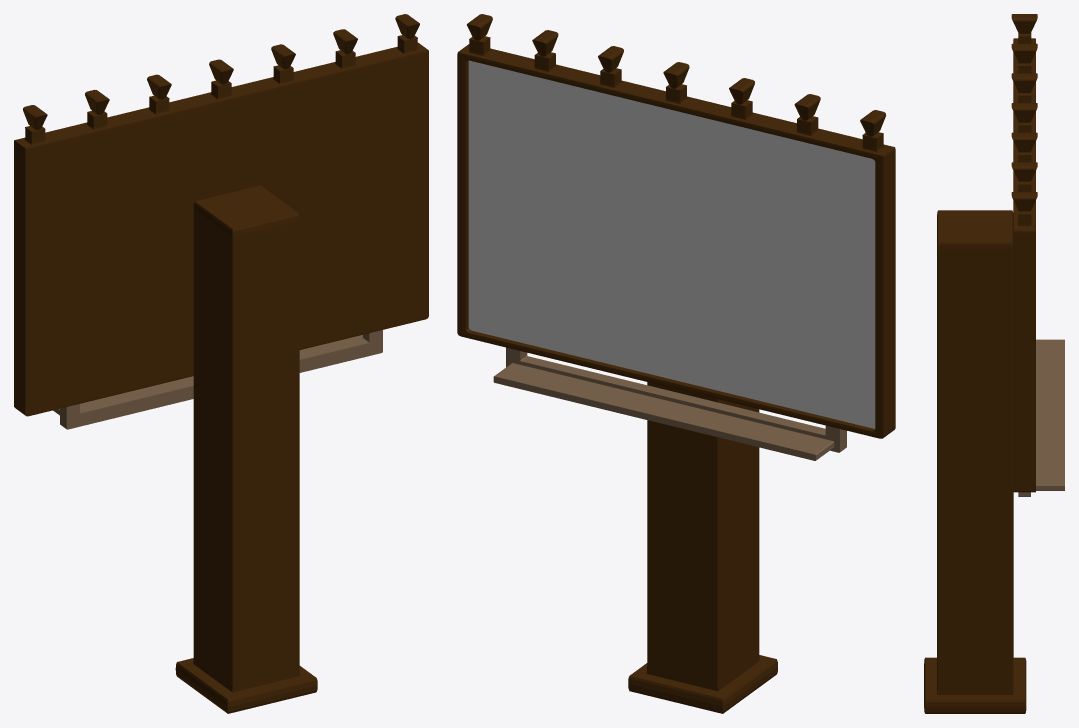
The model's file is Billboard2.fbx.
3 views of the same model, side by side, from view 1: azimuth 30°, elevation 25°; view 2: azimuth 150°, elevation 25°; view 3: azimuth 270°, elevation 25° (orthographic). The views are drawn at different scales.
Parts seen in each view (by area): view 1: Billboard Edge, Pole, HanginThing; view 2: Billboard(1), Pole, Billboard Edge, HanginThing; view 3: Pole, Billboard Edge, HanginThing.
Boxes of the visible parts, box(x1,y1,x2,y2) form: Billboard Edge: box(14, 14, 428, 416); Pole: box(175, 185, 317, 713); HanginThing: box(53, 330, 382, 429); Billboard(1): box(468, 60, 875, 428); Pole: box(628, 382, 777, 713); Billboard Edge: box(457, 14, 895, 438); HanginThing: box(493, 347, 846, 460); Pole: box(924, 210, 1026, 713); Billboard Edge: box(1011, 14, 1037, 492); HanginThing: box(1018, 339, 1064, 496).
Bounding box in the file's own units: 1190 × 1692 × 368.
